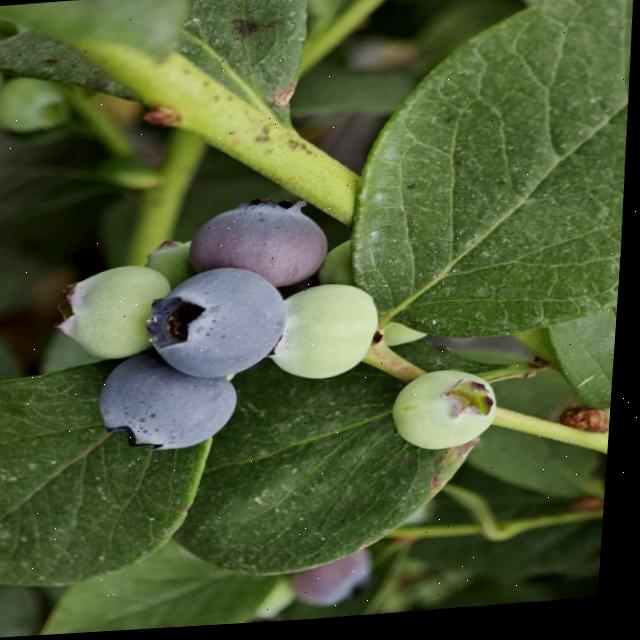RipeBlueBerry: (148, 269, 296, 386), (190, 200, 338, 296), (103, 357, 244, 456)
UnripeBlueBerry: (55, 267, 173, 363), (278, 286, 384, 387), (394, 374, 505, 458)
